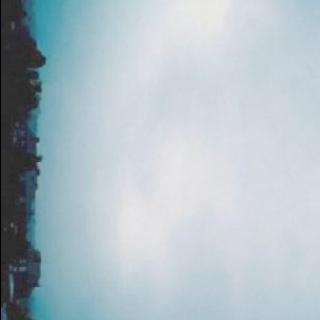Nimbostratus: (37, 0, 320, 320)
